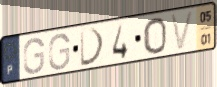4: (110, 21, 131, 61)
D: (79, 26, 106, 69)
G: (47, 32, 72, 72), (22, 36, 46, 76)
O: (141, 16, 168, 56)
V: (168, 8, 197, 53)
